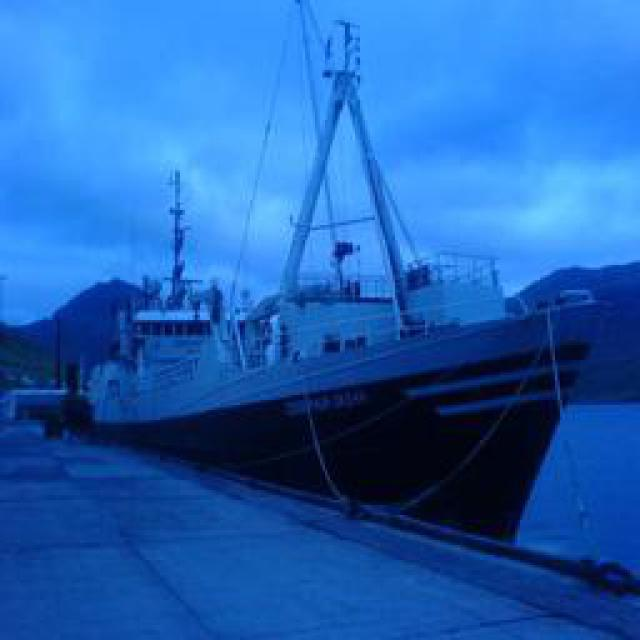Ship: (50, 3, 595, 508)
